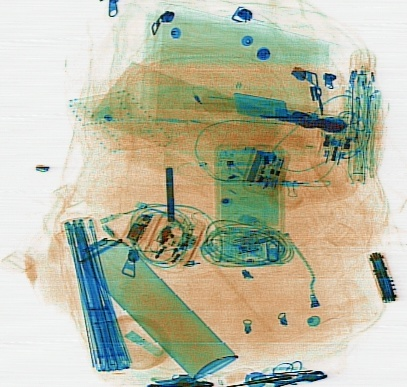pressure: (52, 213, 239, 379)
